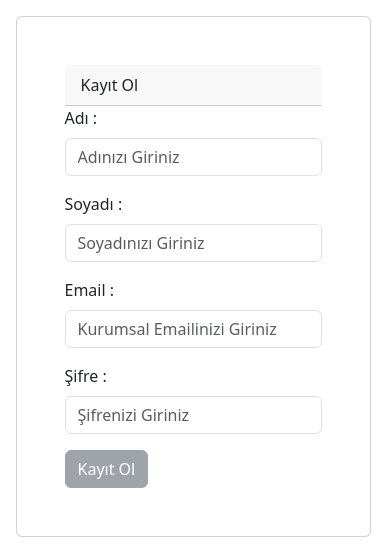
Register Page › Form inputs validated › button enabled for validated inputs
The width and height of the screenshot is (388, 554).
Type "ilyas" into the field with test id "ad-input" at (194, 157), box [65, 138, 322, 176]
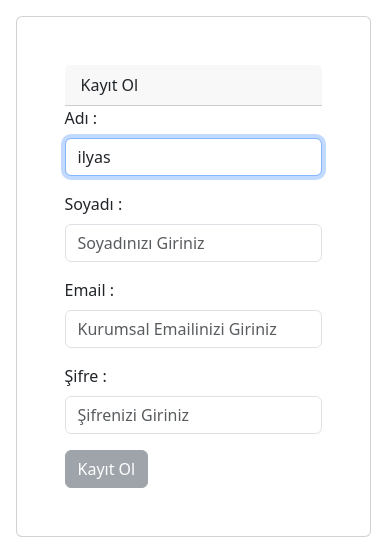
Type "koç" into the field with test id "soyad-input" at (194, 243), box [65, 224, 322, 262]
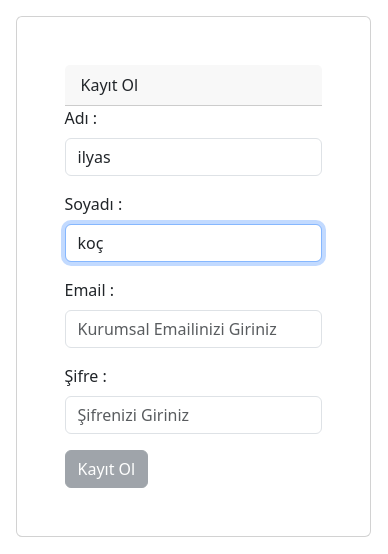
Type "ilyas@wit.com.tr" into the field with test id "email-input" at (194, 329), box [65, 310, 322, 348]
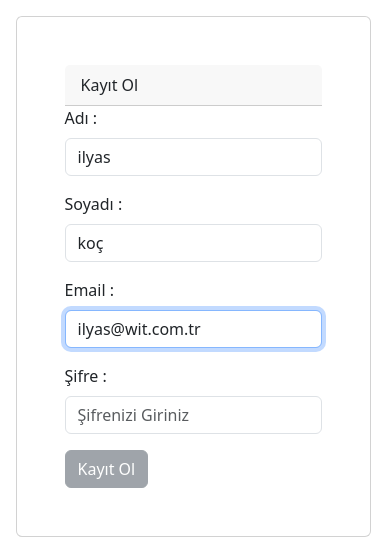
Type "1234Aa**" into the password field with test id "password-input" at (194, 415), box [65, 396, 322, 434]
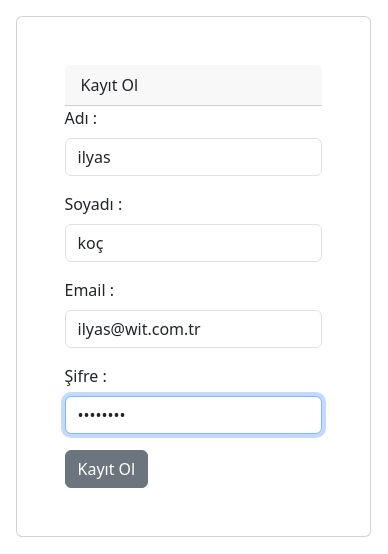
Expected: the button with test id "submit-button" is enabled, [65, 450, 149, 488]
